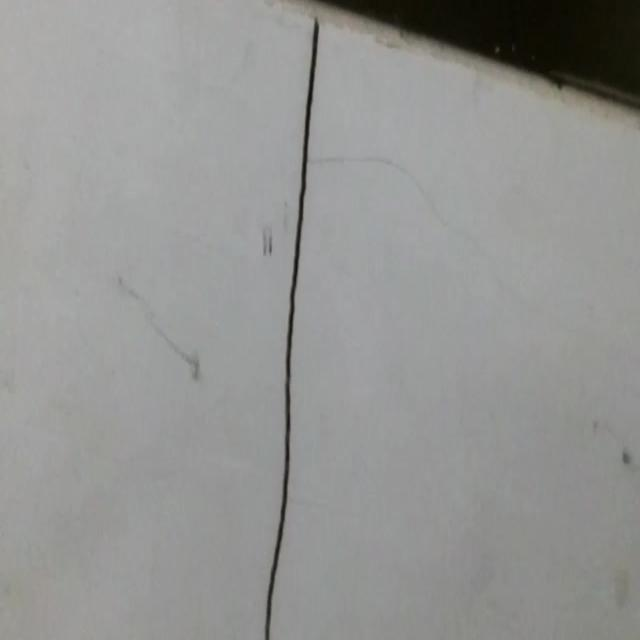Crack: (256, 0, 340, 640), (316, 116, 528, 276)
